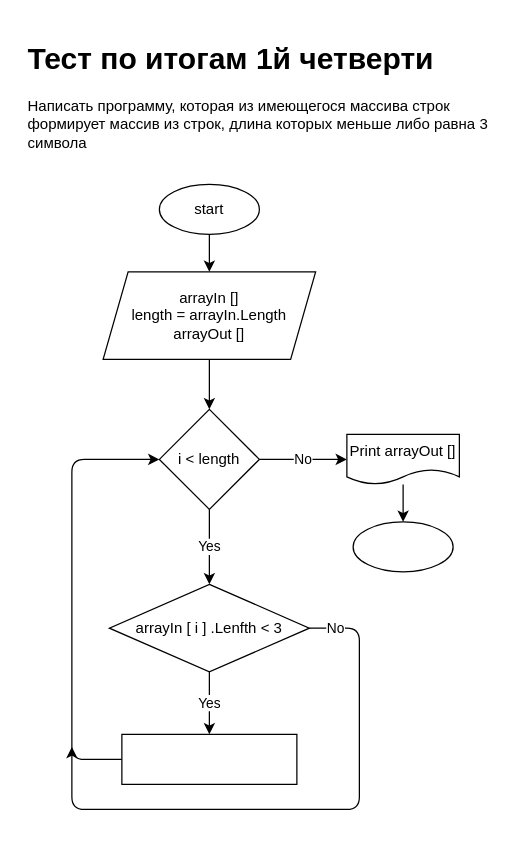
The diagram is 530 pixels wide and 841 high, and some of its shapes have lost their labels. The box of each missing label's shape, as (x1, y1, x2, y2) in pixels:
arrayOut [j] = arrayIn [i]: (121, 733, 297, 784)
finish: (352, 521, 453, 572)
